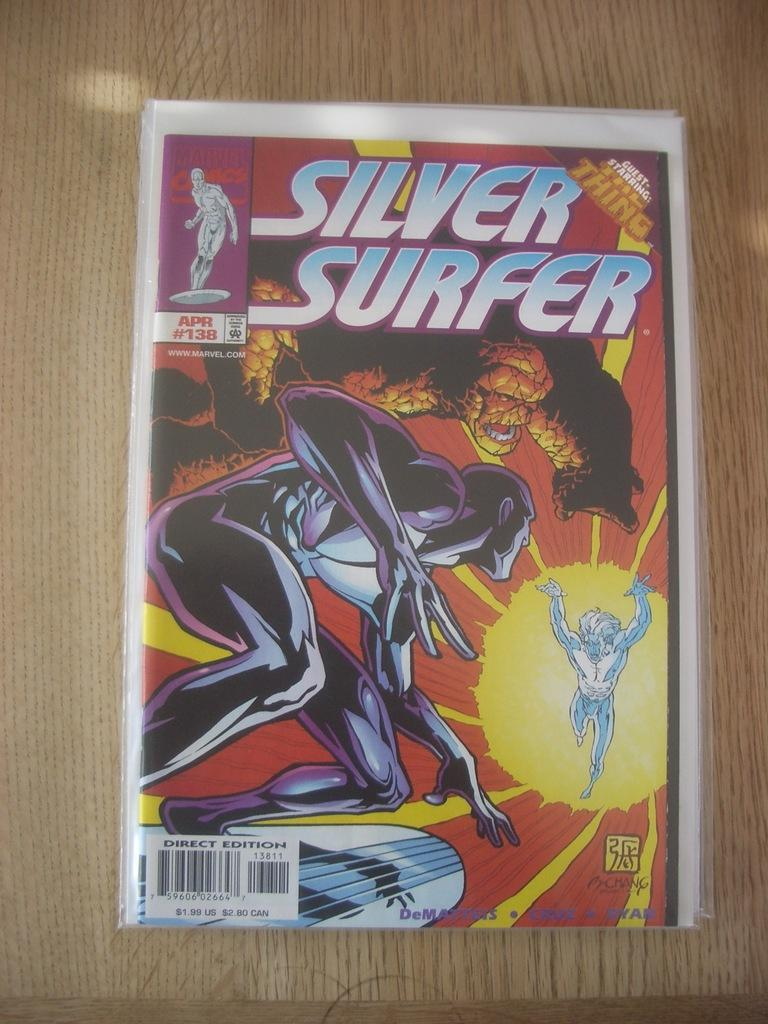book: (121, 99, 696, 929)
